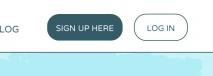button: (45, 12, 125, 43), (132, 12, 188, 41)
